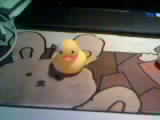duck: (43, 32, 91, 70)
